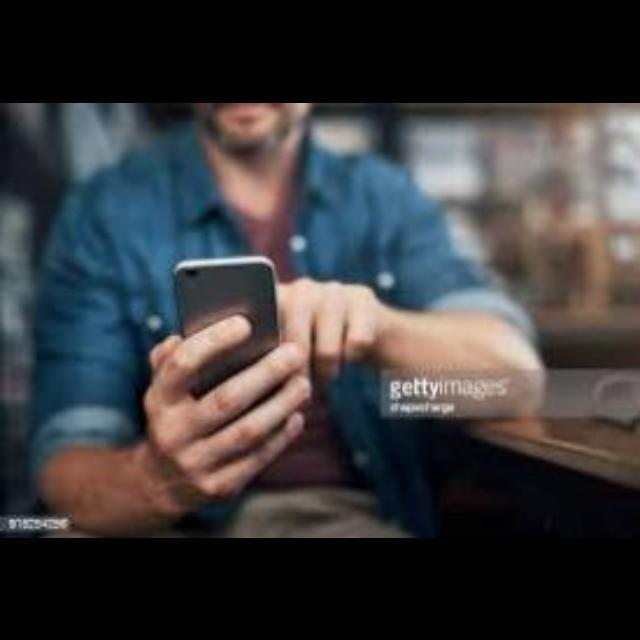PhoneUse: (171, 254, 285, 382)
